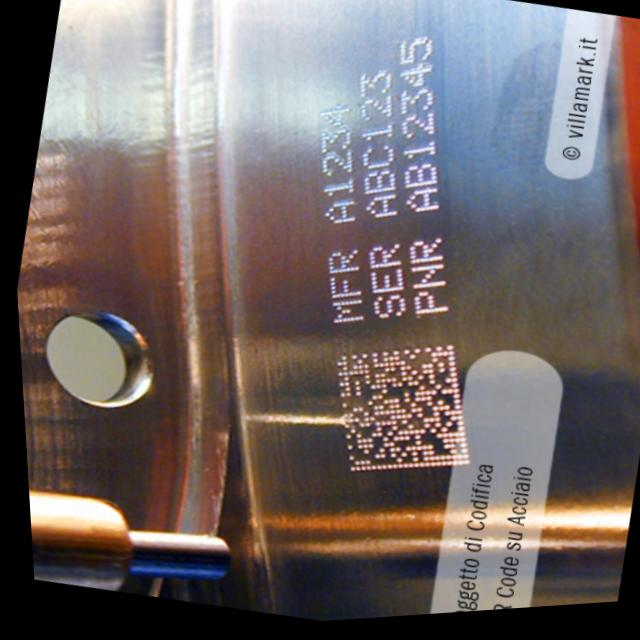datamatrix: (299, 319, 499, 514)
